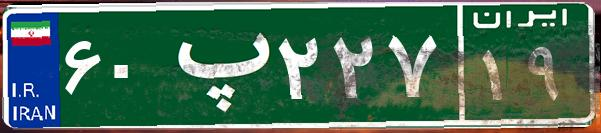0: (110, 28, 158, 105)
1: (475, 38, 525, 113)
2: (273, 28, 330, 110), (330, 28, 385, 110)
6: (57, 26, 110, 107)
7: (385, 28, 445, 110)
9: (525, 38, 570, 115)
پ: (158, 15, 273, 115)
